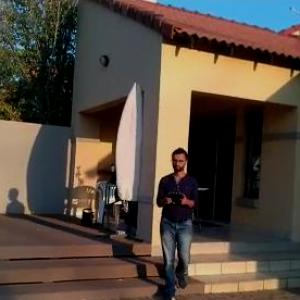follow: (152, 144, 200, 299)
